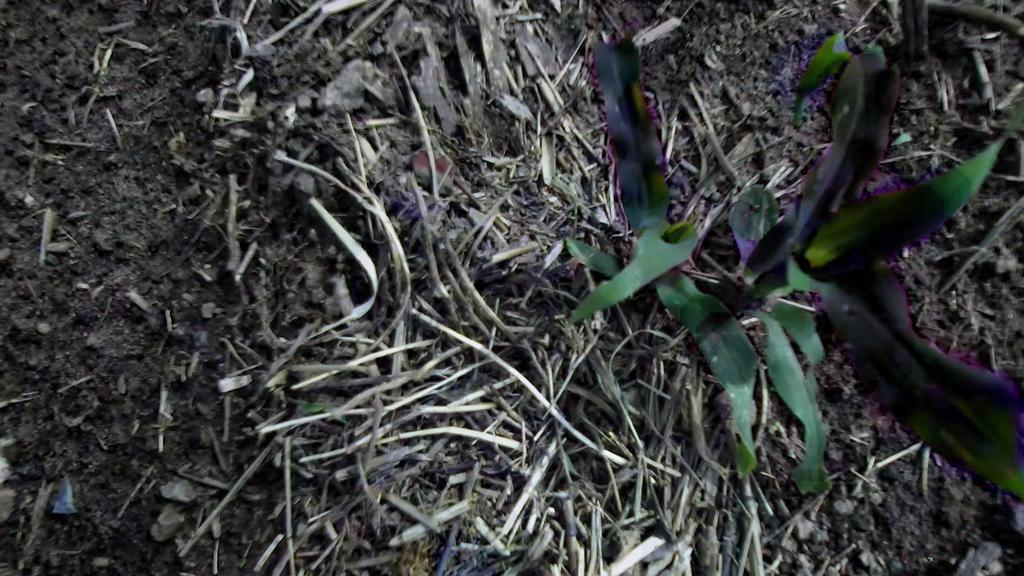BroWeed: (284, 396, 333, 419), (890, 126, 916, 153), (321, 402, 351, 425), (559, 453, 583, 480), (237, 555, 249, 570), (694, 491, 703, 503), (7, 527, 18, 535)
Maize: (475, 19, 797, 514), (727, 31, 1024, 499)
